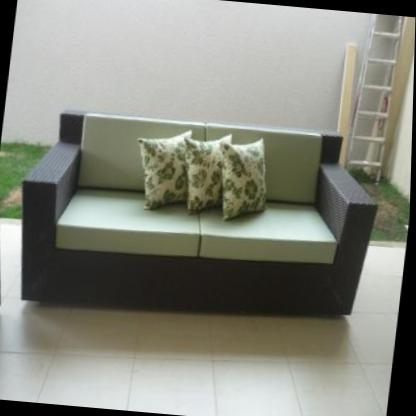Ceramic floor: (0, 308, 400, 416)
Sofa: (6, 104, 385, 338)
